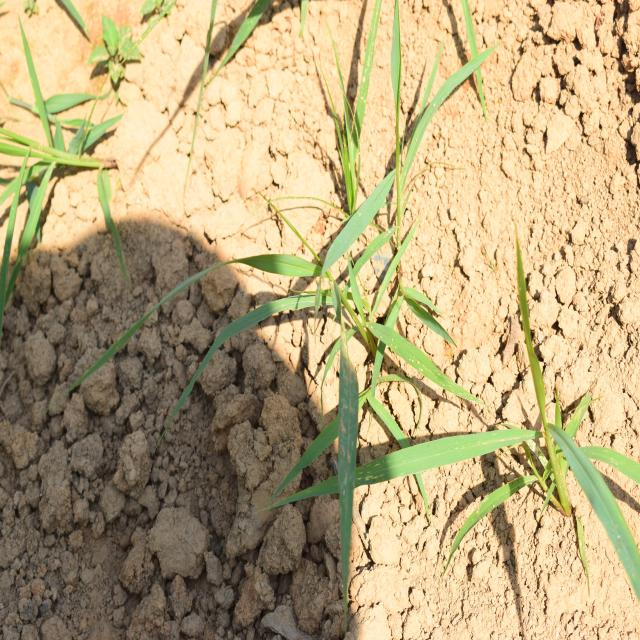green_foxtail: (125, 205, 468, 453), (355, 344, 621, 566)
